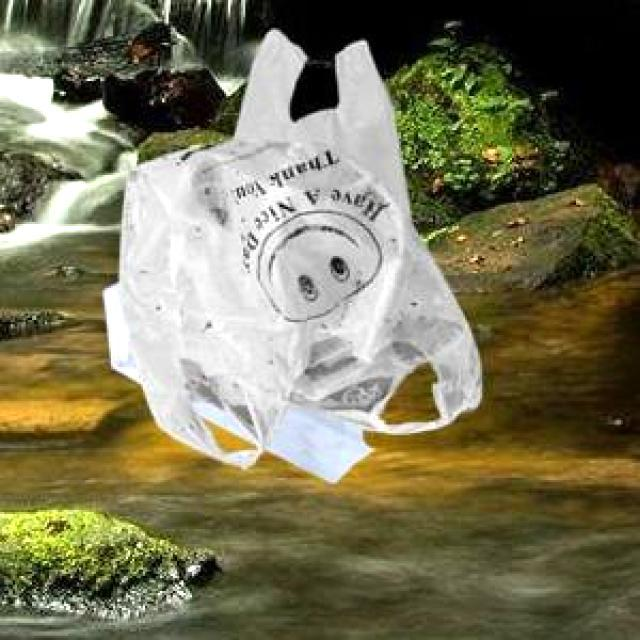Plastic_Bag: (116, 136, 479, 467), (101, 280, 370, 479), (232, 27, 408, 218)
